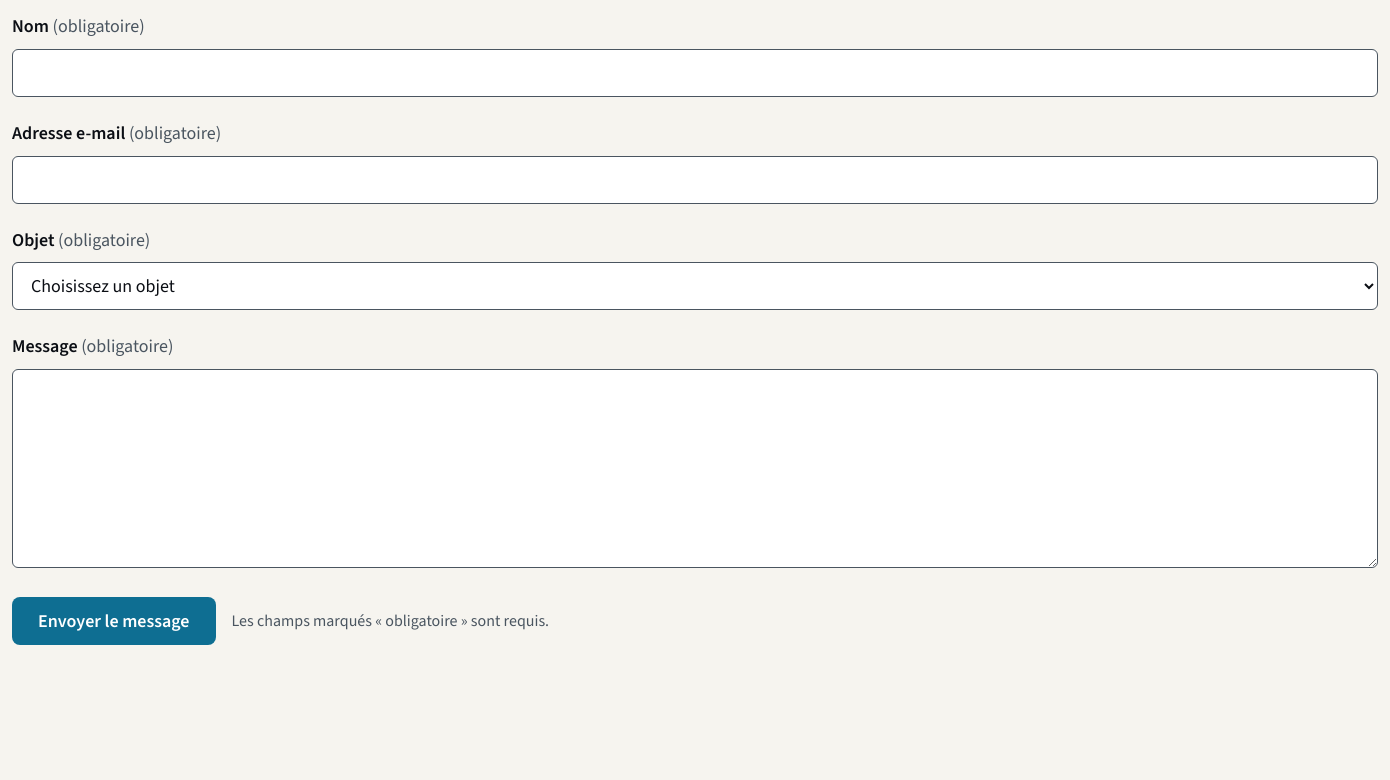
Test: ContactForm › should open a prefilled draft and confirm, on a valid submission
Step 1. Type "Marie Dupont" into the field labelled "Nom (obligatoire)" → (695, 73), box [12,49,1378,97]
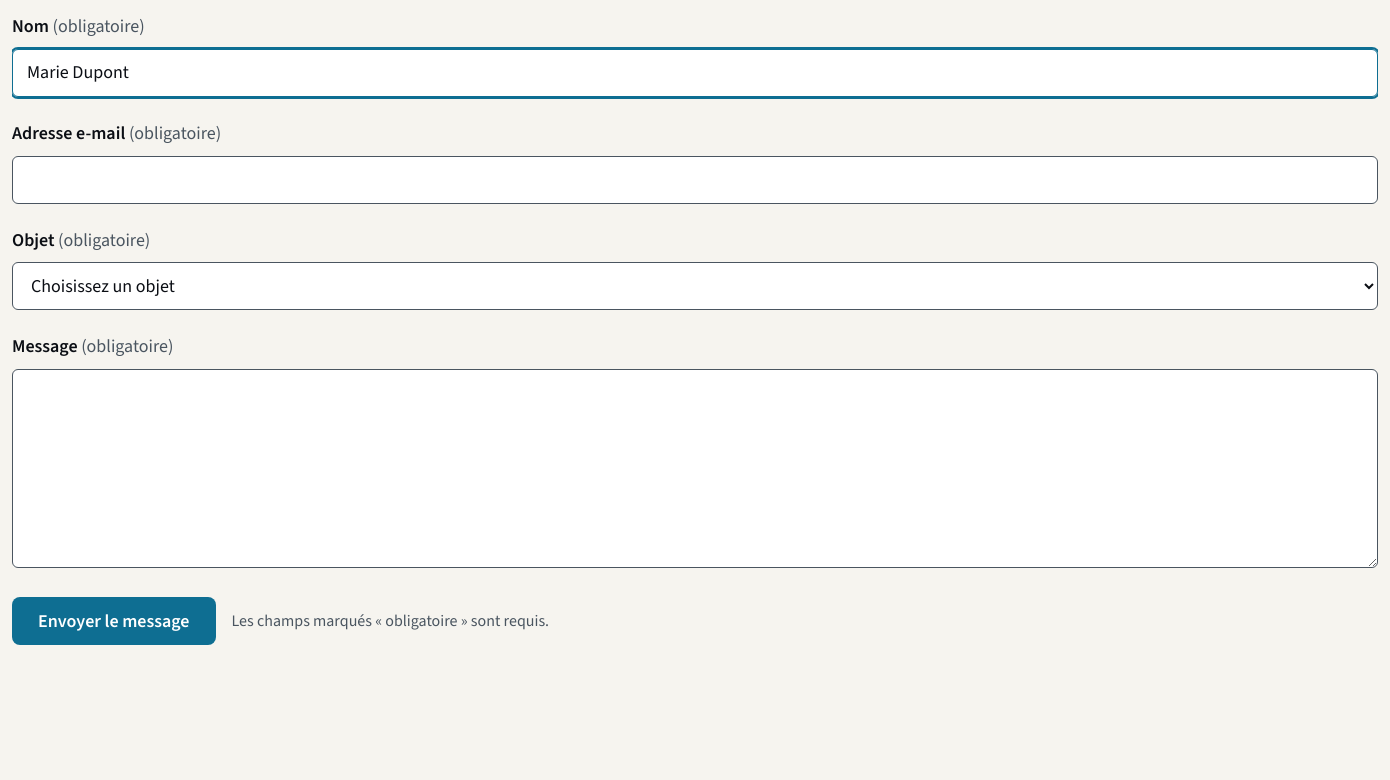
Step 2. Type "marie@example.com" into the field labelled "Adresse e-mail (obligatoire)" → (695, 180), box [12,156,1378,204]
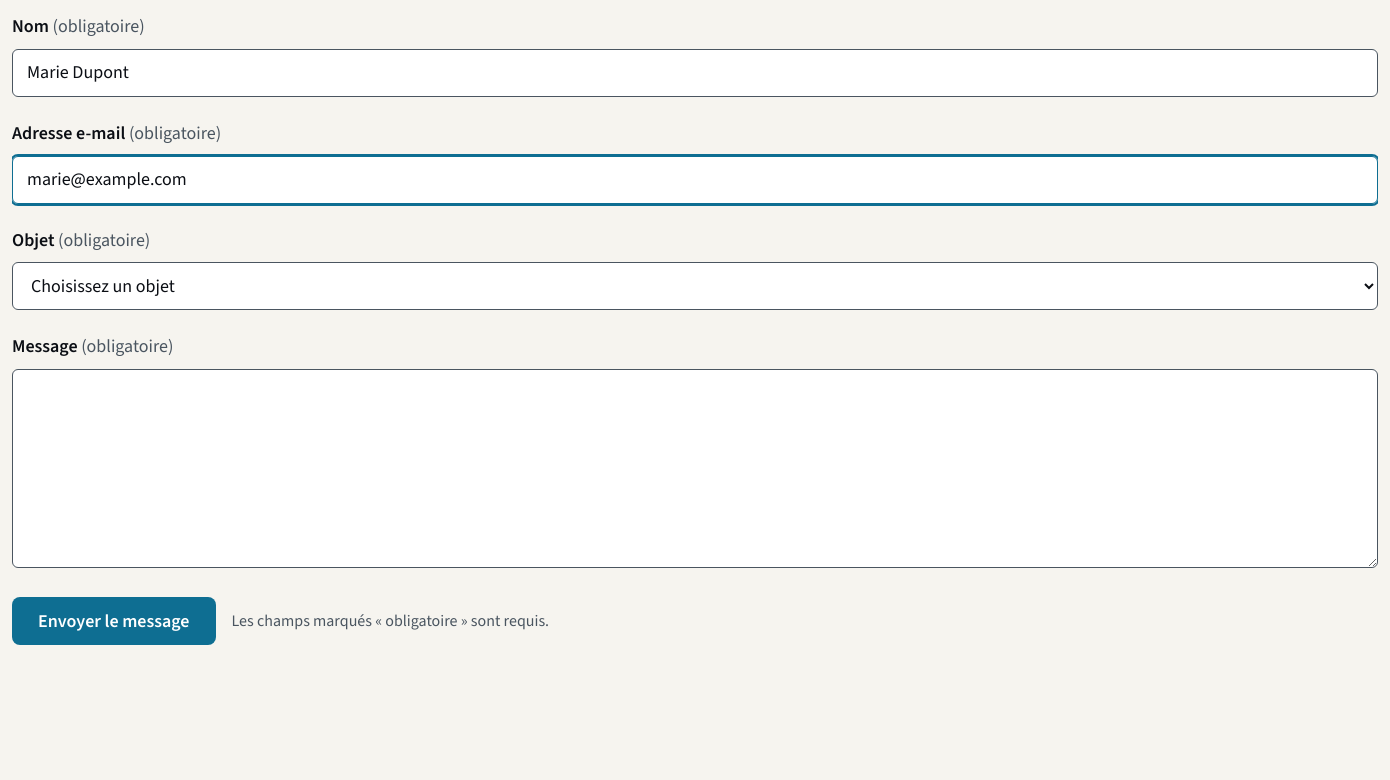
Step 3. Select "Question sur les concerts" in the dropdown labelled "Objet (obligatoire)" → (695, 286), box [12,262,1378,310]
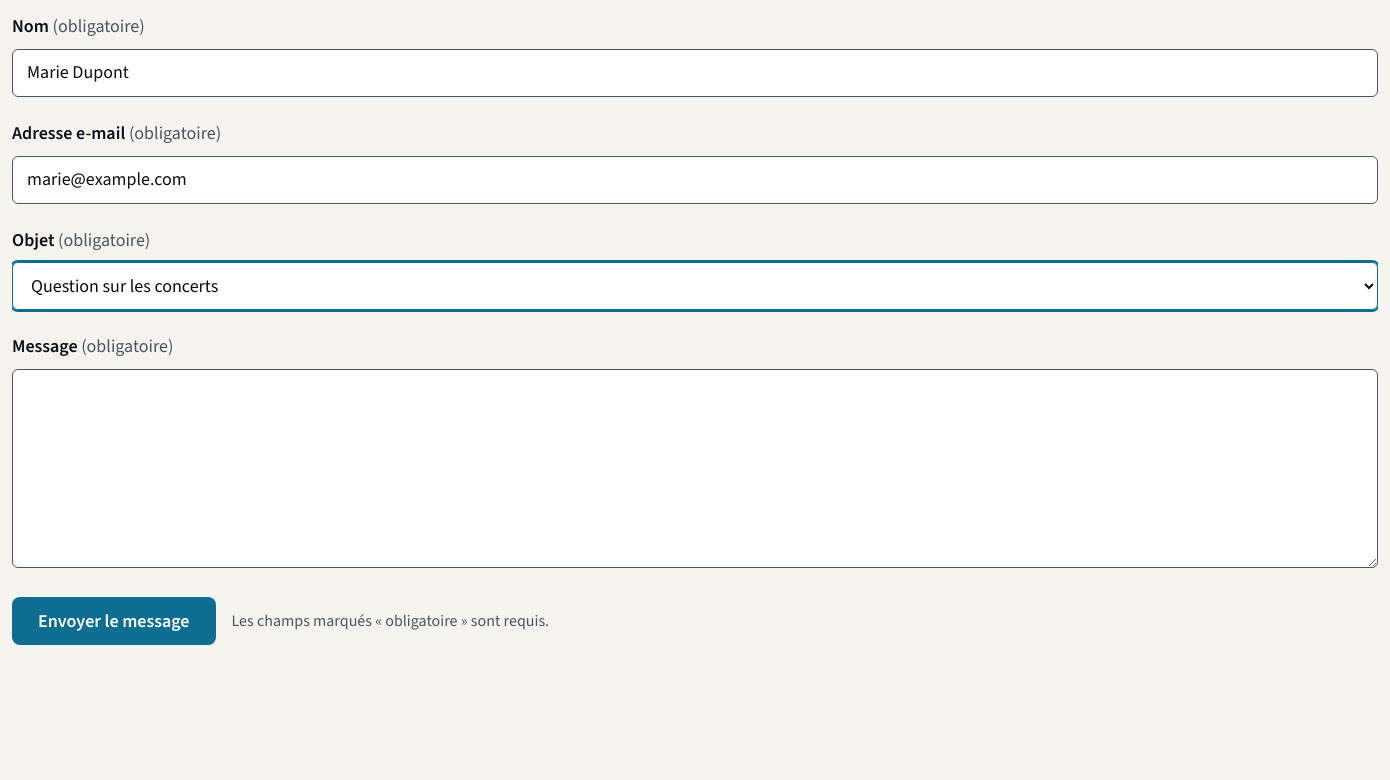
Step 4. Type "Bonjour, je souhaite des informations sur vos concerts." into the text box labelled "Message (obligatoire)" → (695, 469), box [12,369,1378,568]
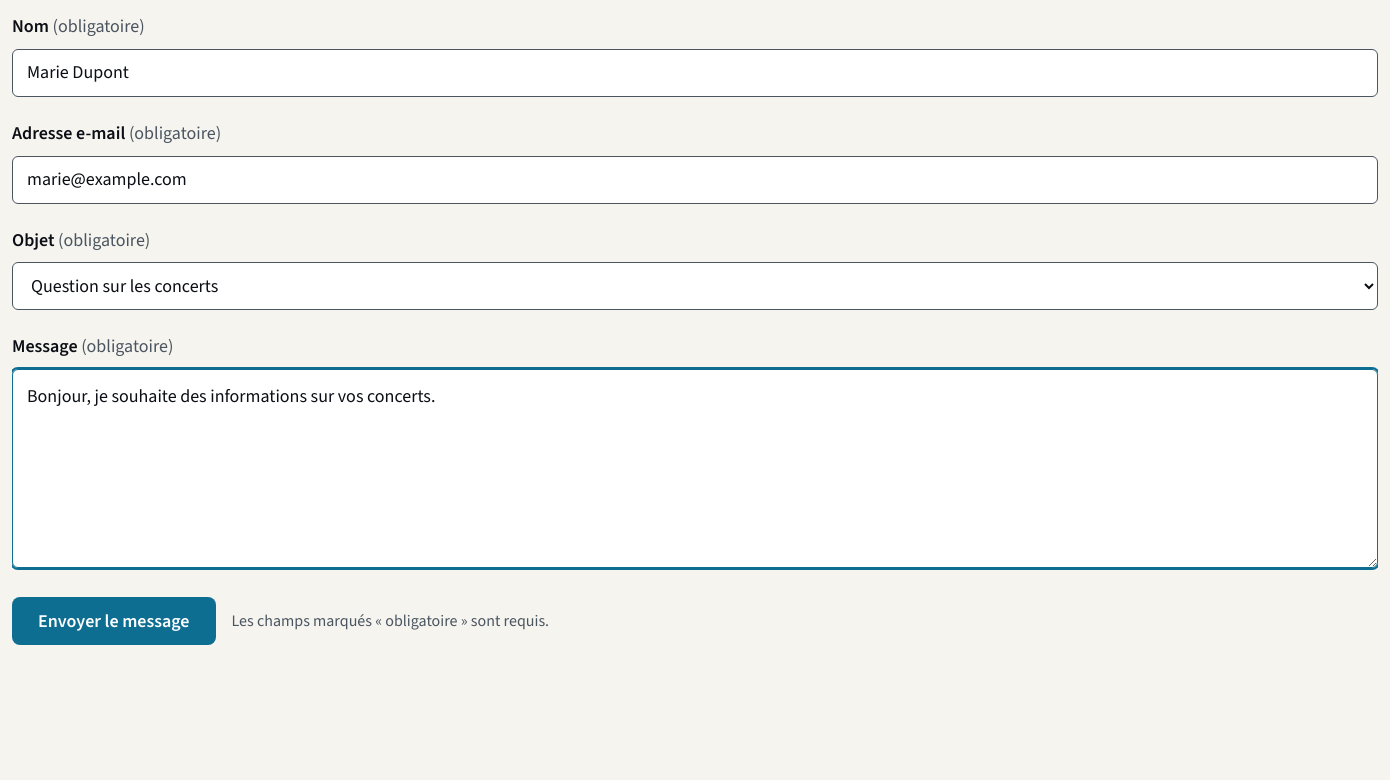
Step 5. Click the button "Envoyer le message" → (114, 621), box [12,597,216,645]
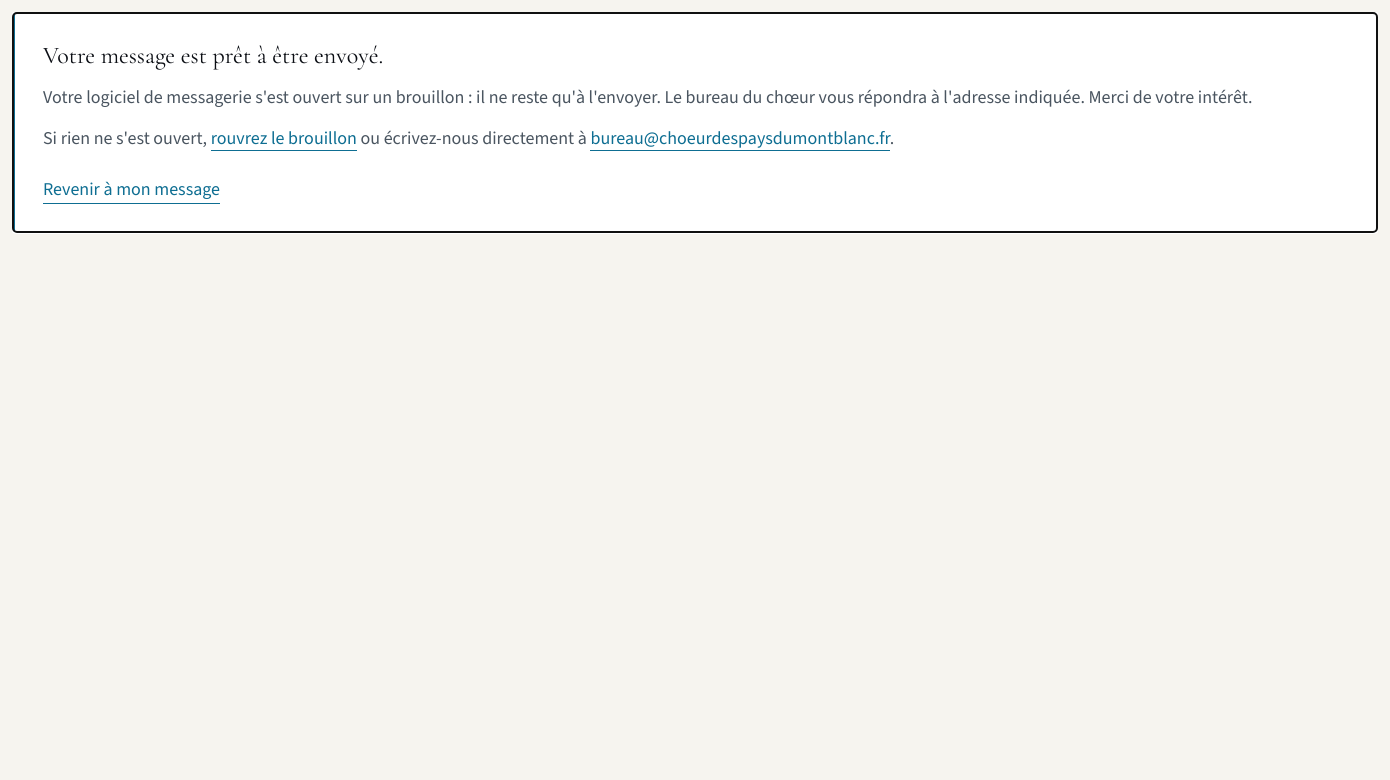
Expected: the text "Votre message est prêt à être envoyé." is shown, [43,41,383,70]
Expected: the button "Envoyer le message" is gone
